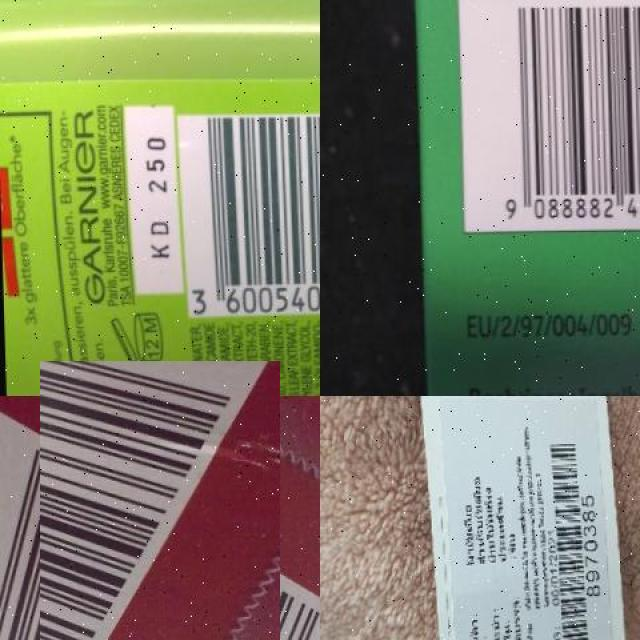Barcode: (20, 380, 300, 640), (460, 0, 640, 228), (176, 99, 320, 312), (547, 424, 605, 640)
